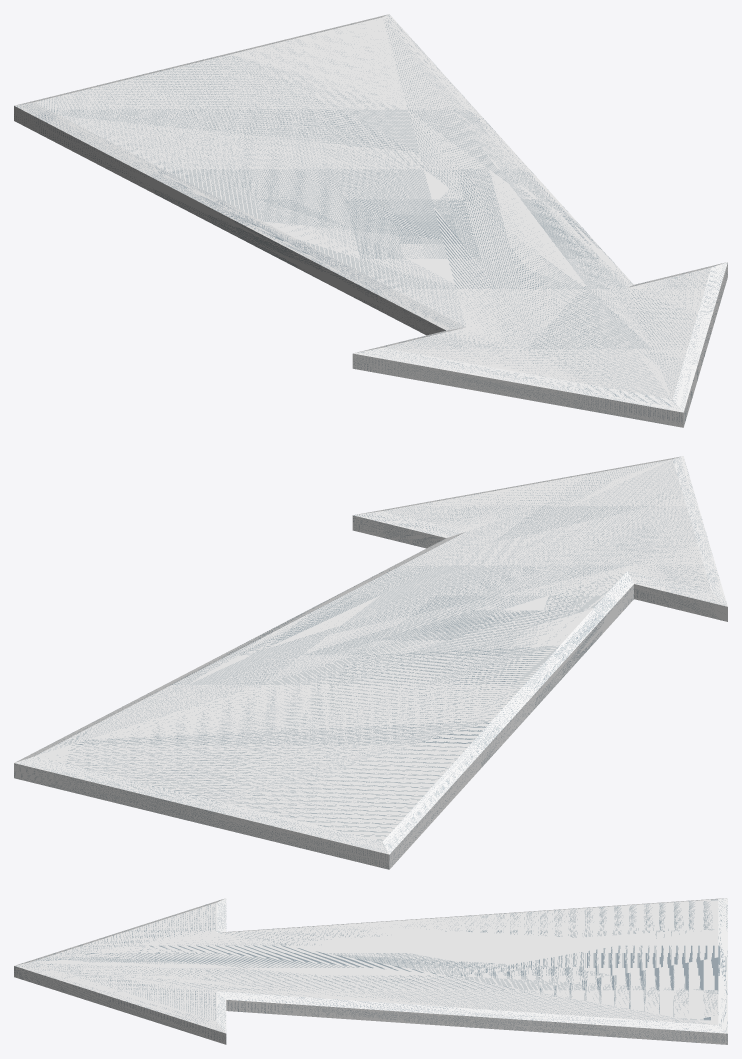
File: Arrow.dae
3 views of the same model, one above another, from view 1: azimuth 30°, elevation 25°; view 2: azimuth 150°, elevation 25°; view 3: azimuth 270°, elevation 25° (orthographic). The views are drawn at different scales.
Parts seen in each view (by area): view 1: SketchUp; view 2: SketchUp; view 3: SketchUp.
Boxes of the visible parts, x1,y1,x2,y2 form: SketchUp: (14,14,727,427); SketchUp: (14,456,727,869); SketchUp: (14,898,727,1044).
Size of the model in its own units: 70.53 by 157 by 3.61.
